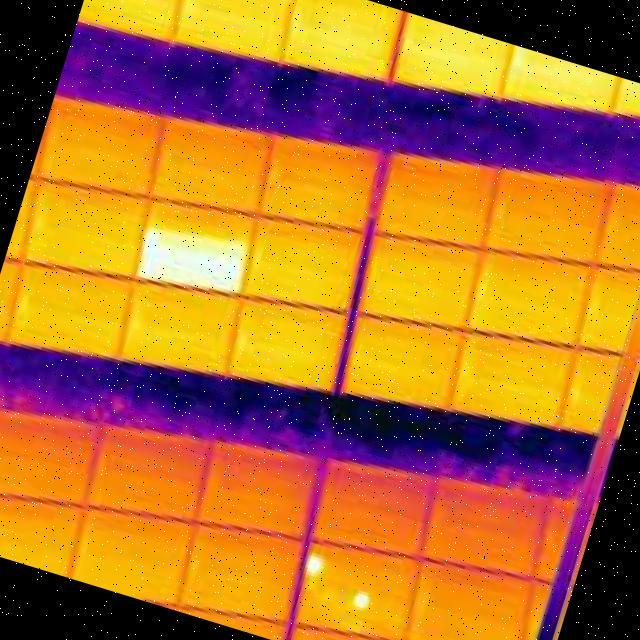Hotspot: (118, 212, 260, 308), (301, 548, 328, 584), (348, 586, 375, 616)
